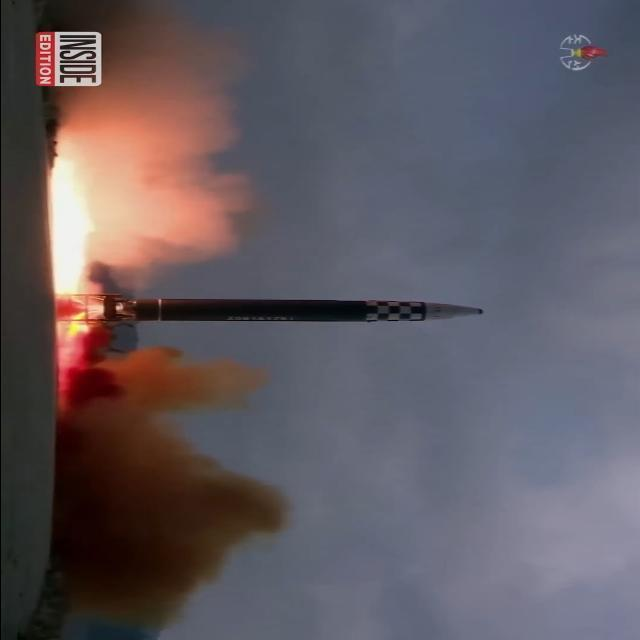missile: (80, 283, 487, 334)
